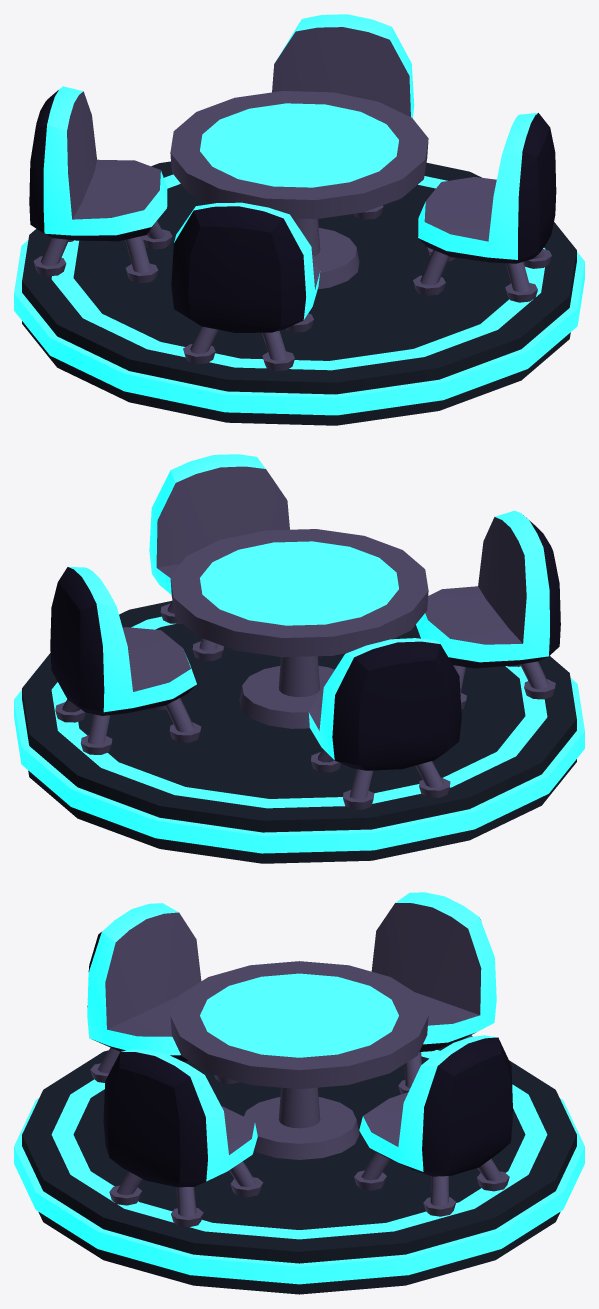
Rendered from CAFE_Table.fbx.
The picture shows the model from 3 angles, top to bottom: view 1: azimuth 30°, elevation 25°; view 2: azimuth 150°, elevation 25°; view 3: azimuth 270°, elevation 25°; orthographic projection.
Visible parts, largest first — view 1: Circle.024, Circle.025, Cube.035, Cube.036, Cube.034, Cube.037; view 2: Circle.024, Circle.025, Cube.036, Cube.037, Cube.035, Cube.034; view 3: Circle.024, Circle.025, Cube.034, Cube.037, Cube.035, Cube.036.
Boxes of the visible parts, <box> form: Circle.024: <box>14,161,584,425</box>; Circle.025: <box>170,91,428,289</box>; Cube.035: <box>171,202,320,370</box>; Cube.036: <box>29,86,172,283</box>; Cube.034: <box>413,112,556,302</box>; Cube.037: <box>272,14,414,219</box>; Circle.024: <box>14,601,584,863</box>; Circle.025: <box>170,529,428,728</box>; Cube.036: <box>308,638,461,809</box>; Cube.037: <box>50,566,201,754</box>; Cube.035: <box>416,510,560,709</box>; Cube.034: <box>149,454,289,660</box>; Circle.024: <box>14,1044,584,1294</box>; Circle.025: <box>170,961,428,1159</box>; Cube.034: <box>103,1049,263,1227</box>; Cube.037: <box>354,1035,512,1216</box>; Cube.035: <box>87,903,239,1084</box>; Cube.036: <box>371,892,496,1094</box>.
Bounding box in the file's own units: 540 × 230 × 540.
